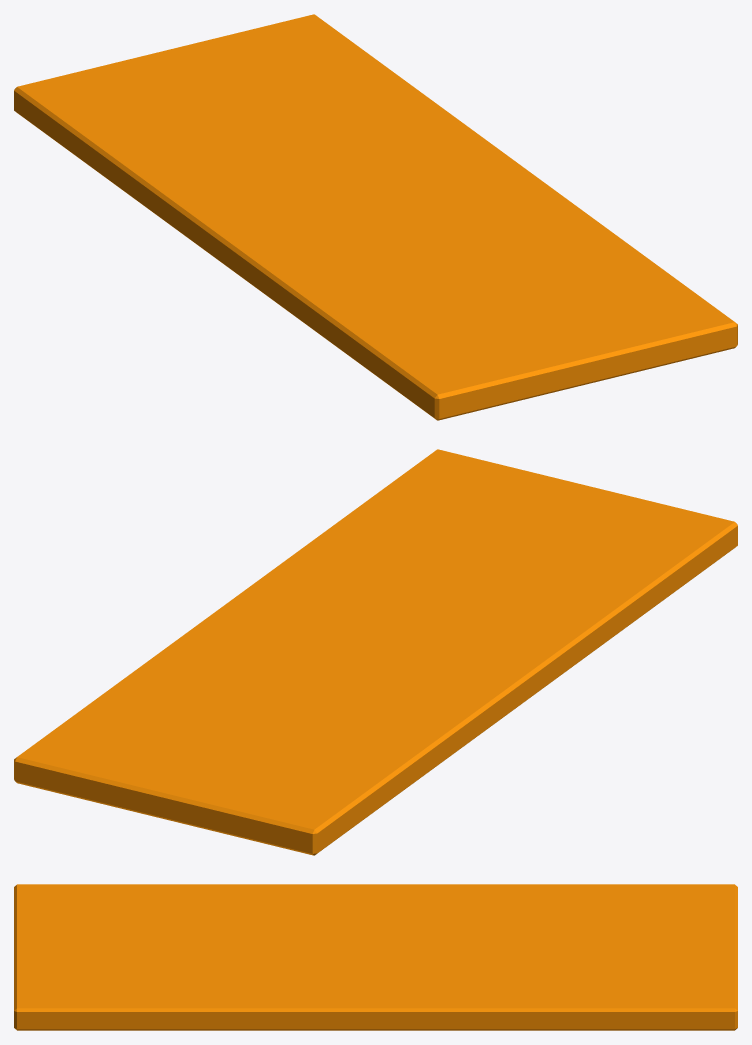
Rendered from ChairTable.fbx.
3 renders of one model, top to bottom at view 1: azimuth 30°, elevation 25°; view 2: azimuth 150°, elevation 25°; view 3: azimuth 270°, elevation 25°, orthographic. The views are drawn at different scales.
Visible parts, largest first — view 1: ChairTable.002; view 2: ChairTable.002; view 3: ChairTable.002.
Part boxes in pixels (<box>): ChairTable.002: <box>14,14,737,420</box>; ChairTable.002: <box>14,449,737,855</box>; ChairTable.002: <box>14,884,737,1030</box>.
Size of the model in its own units: 1.53 by 0.1256 by 3.7.
Materials: 1 (1 with a texture image).
